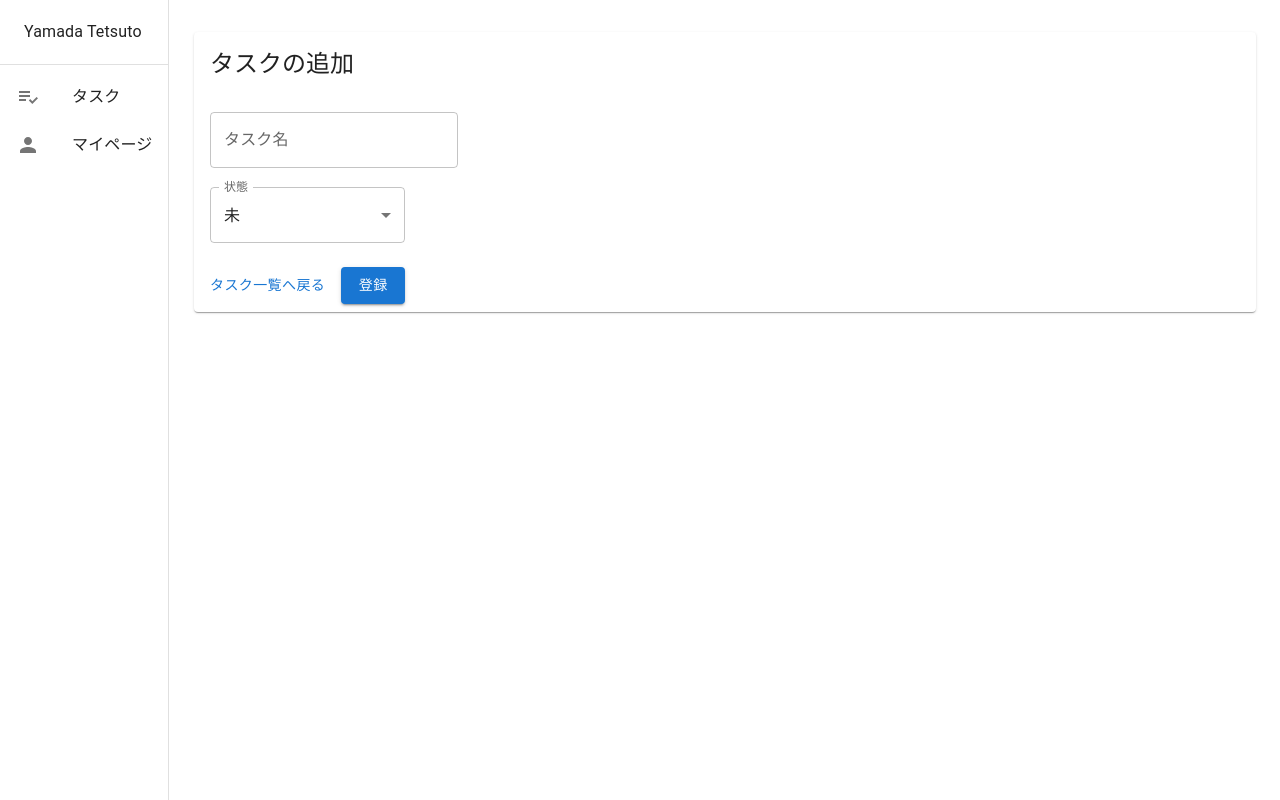
it: TaskCreate › 空白でエラー
The image size is (1280, 800).
Click the button with test id "TaskCreateSubmitBtn": point(373, 285) [341,267,405,304]
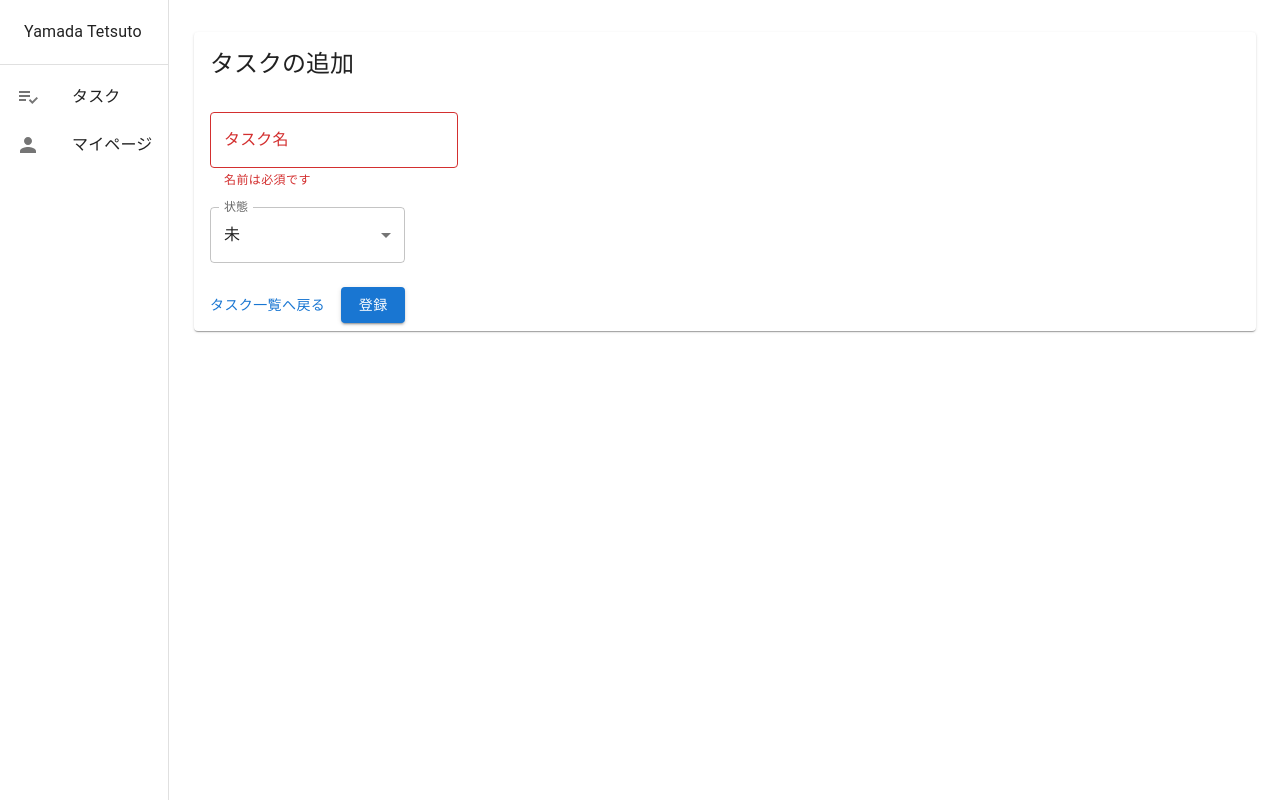
Expected: the text with test id "TaskCreateNameErr" reads "名前は必須です", [224,173,311,187]
